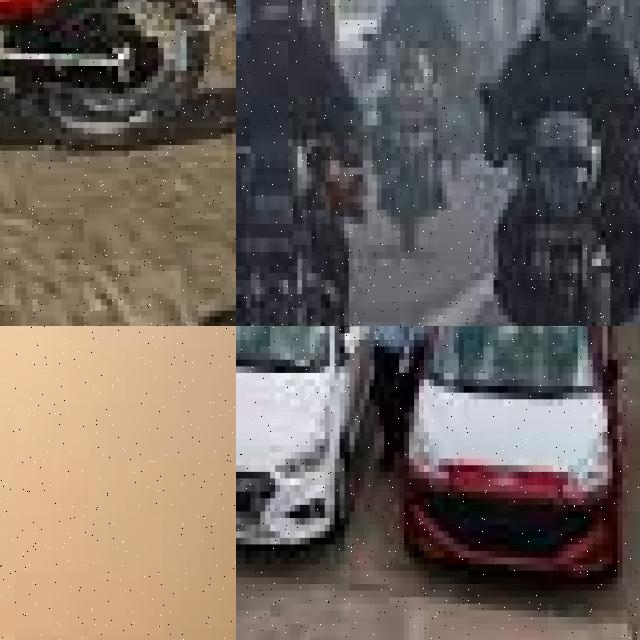bike: (0, 0, 236, 151), (498, 111, 638, 326), (236, 132, 339, 326), (372, 27, 456, 245)
car: (401, 326, 639, 584), (236, 326, 342, 603)
